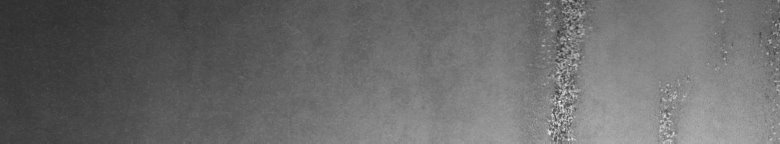hc: (536, 4, 595, 136)
